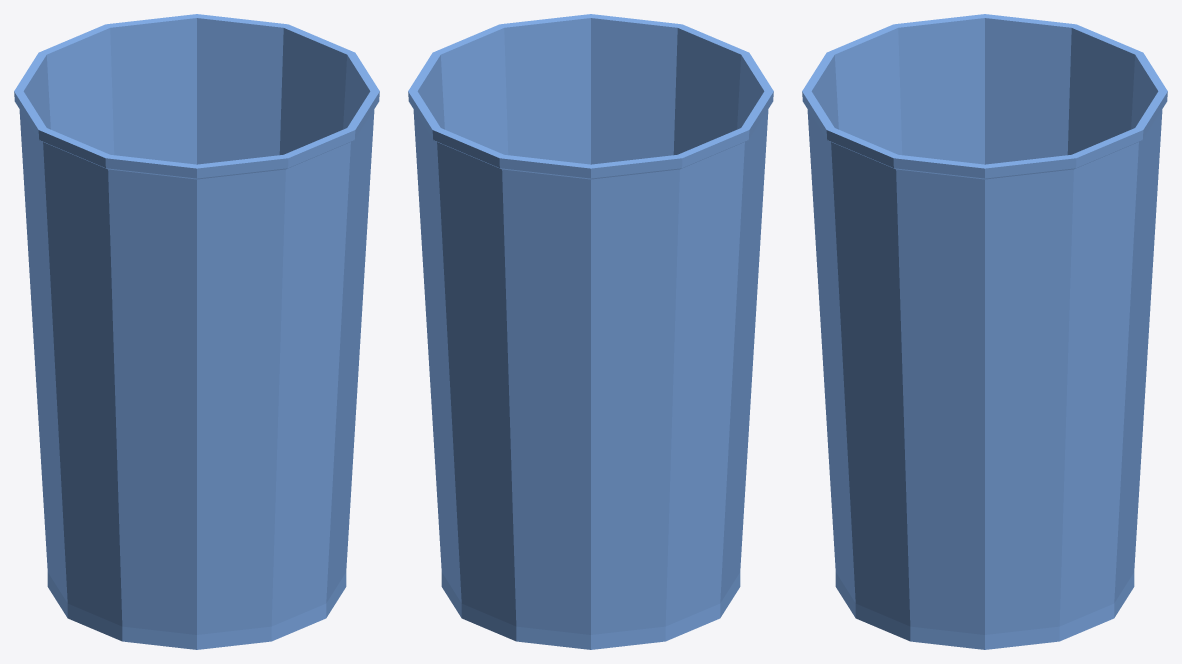
File: trashcan.fbx
3 renders of one model, left to right at view 1: azimuth 30°, elevation 25°; view 2: azimuth 150°, elevation 25°; view 3: azimuth 270°, elevation 25°, orthographic.
Parts seen in each view (by area): view 1: Cylinder; view 2: Cylinder; view 3: Cylinder.
Boxes of the visible parts, <box> form: Cylinder: <box>14,14,379,649</box>; Cylinder: <box>408,14,773,649</box>; Cylinder: <box>802,14,1167,649</box>.
Size of the model in its own units: 40 by 59.8 by 40.
